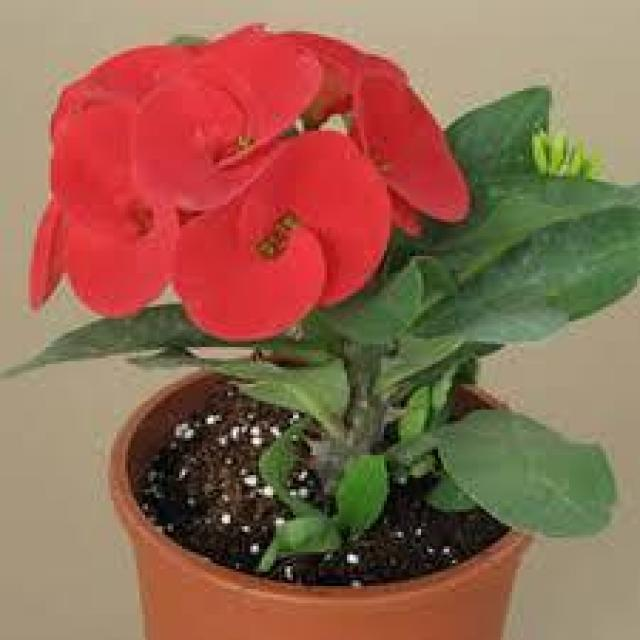organic waste: (44, 32, 465, 328)
